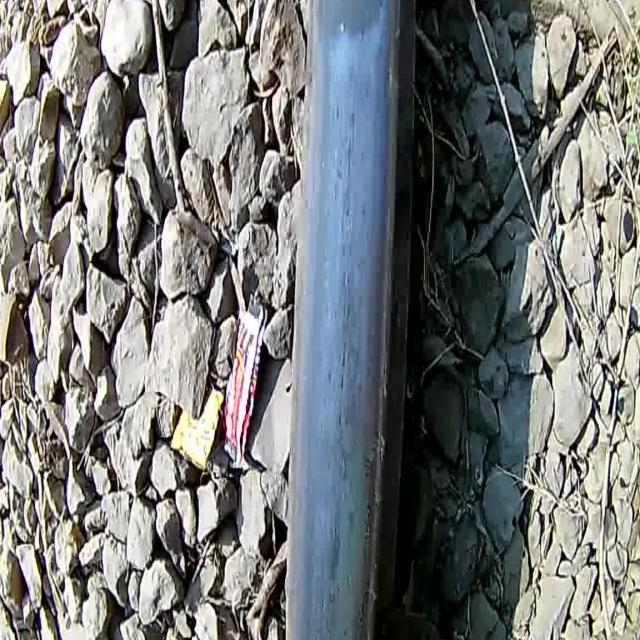Squats: (262, 0, 432, 640)
